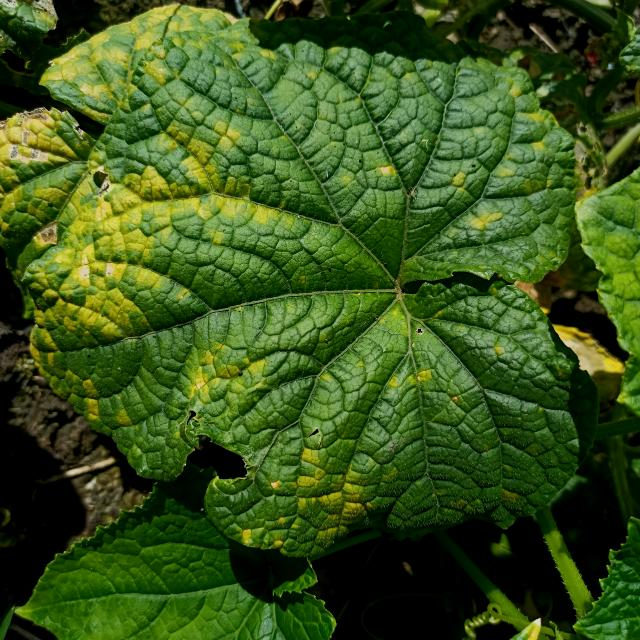disease_cucumber: (0, 13, 273, 361), (172, 344, 372, 546)
